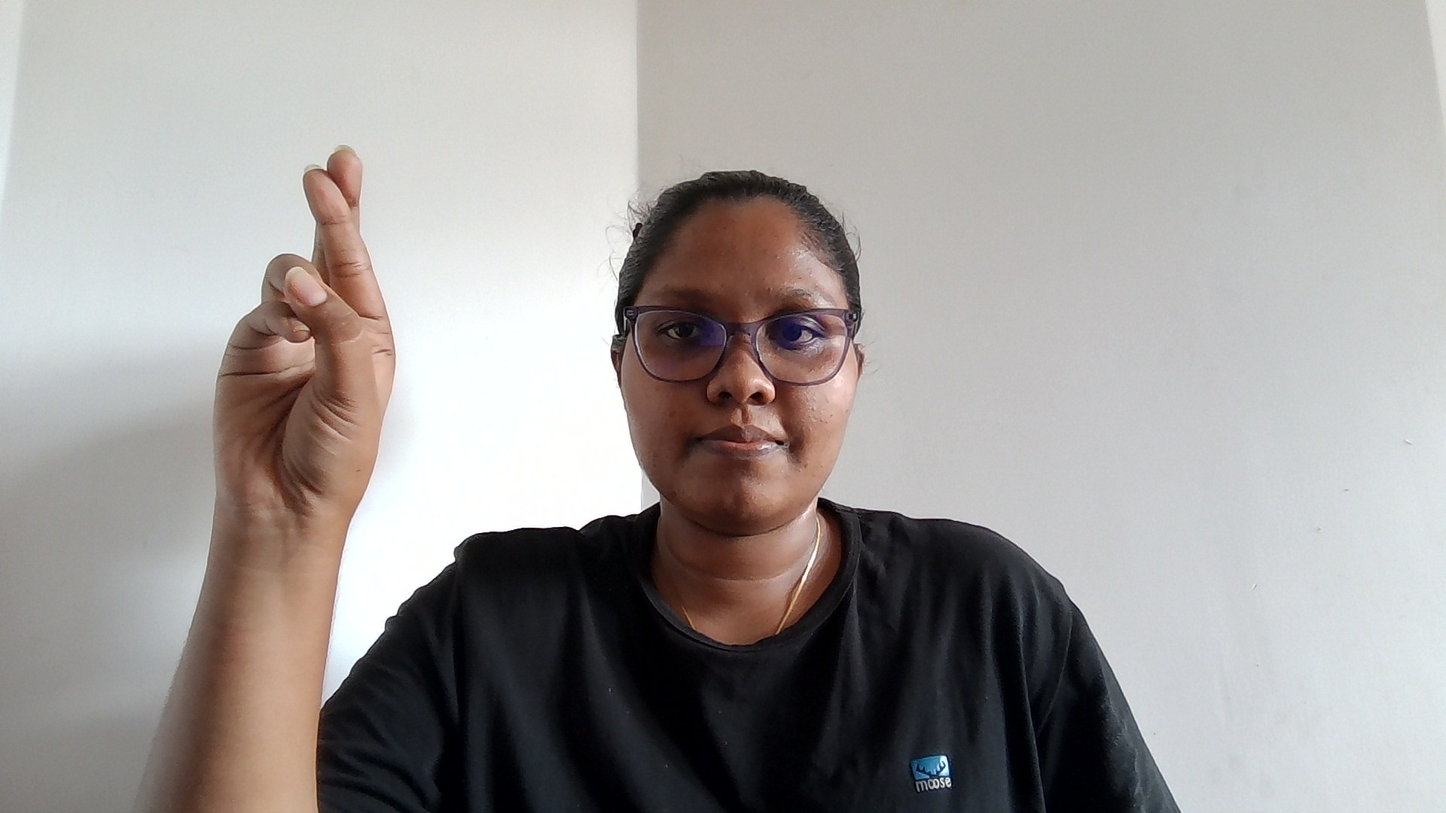Good_Luck: (119, 75, 448, 615)
